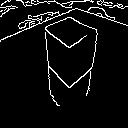cube: (39, 14, 103, 89)
